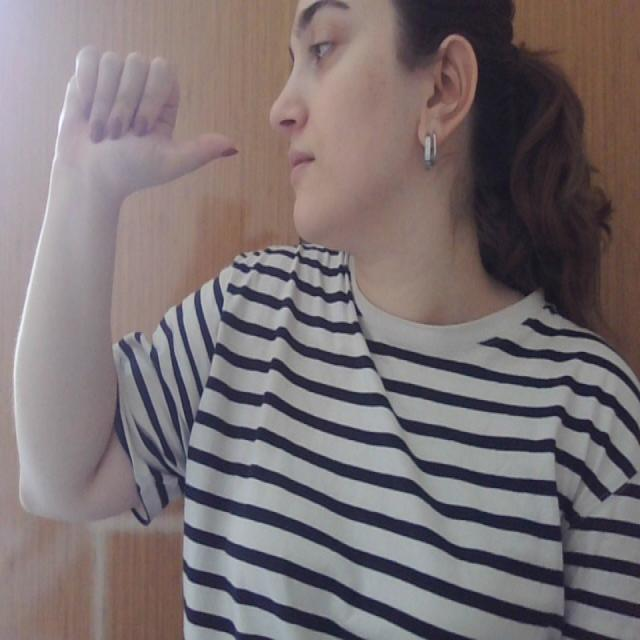icmek: (16, 52, 324, 215)
